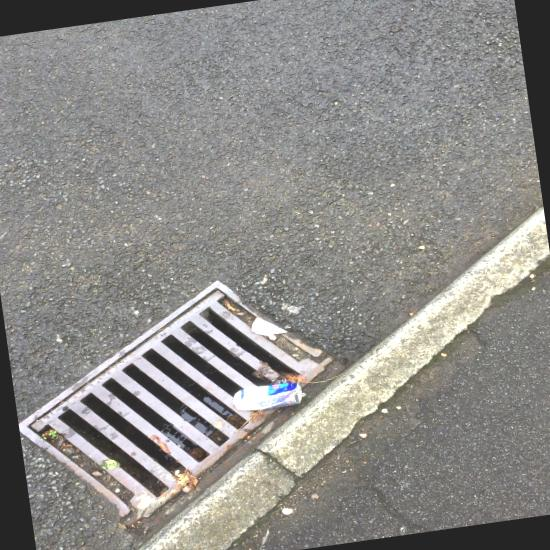Drink can: (233, 382, 306, 410)
Pop tab: (296, 391, 306, 396)
Unlabeled litter: (251, 317, 287, 340)
